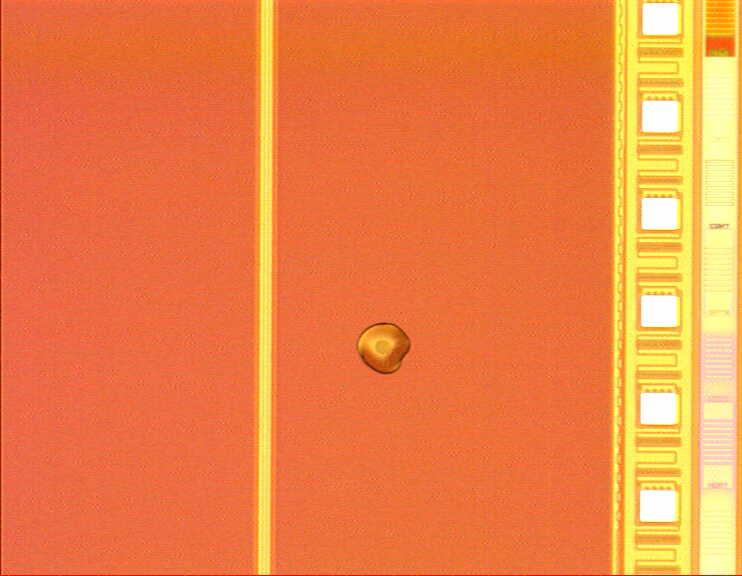COATING BAD: (352, 314, 420, 382)
